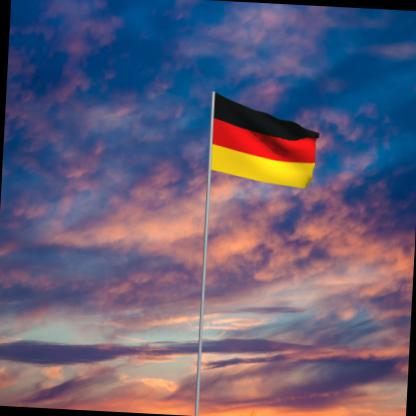de: (212, 93, 323, 191)
